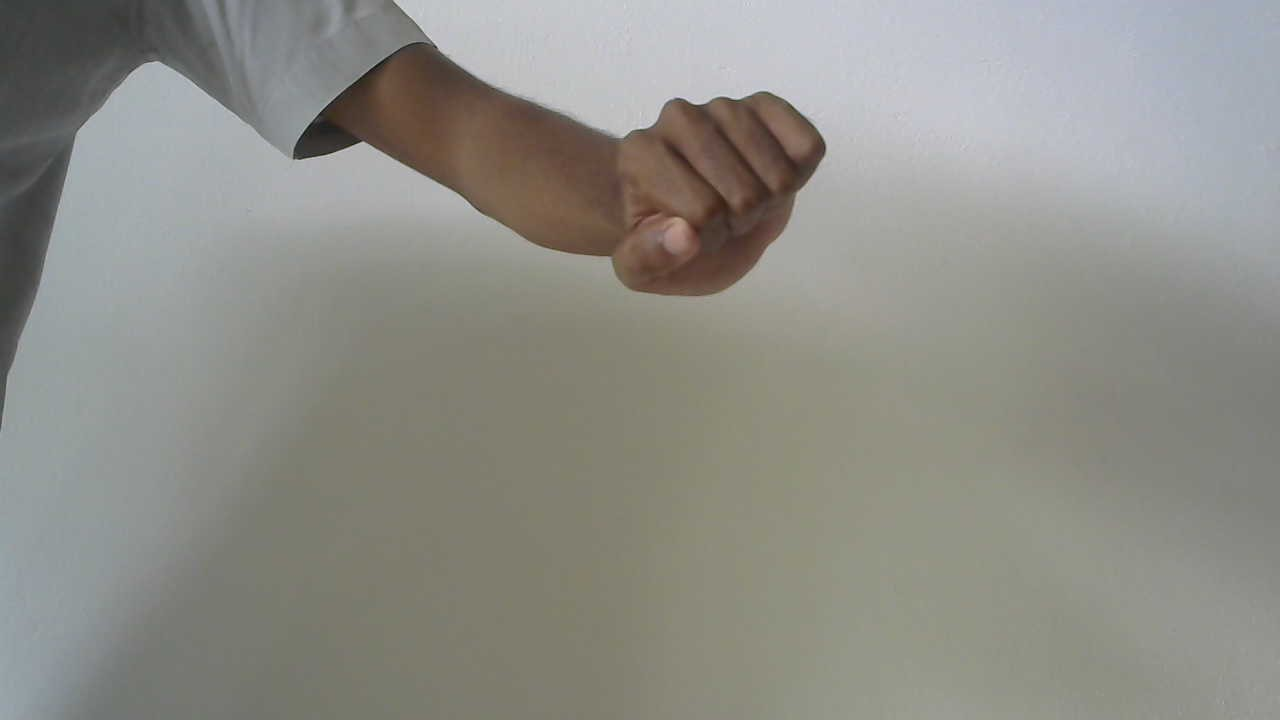yes: (595, 83, 847, 324)
